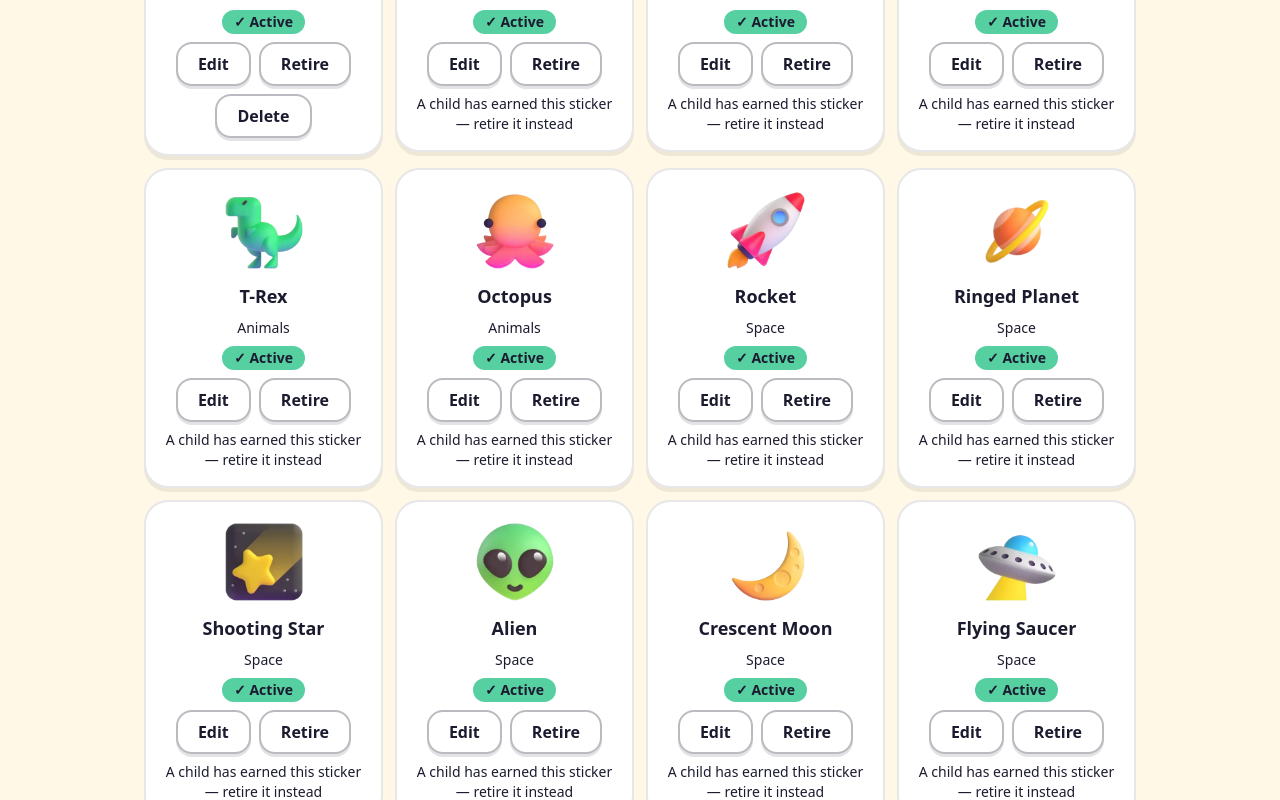
Test: LibraryScreen › edits a sticker name
The width and height of the screenshot is (1280, 800).
(page scrolled)
Expected: the heading "Rocket" is shown, [734, 282, 796, 310]
Click the button with aria-label "Edit Rocket".
click(715, 400)  # box [678, 378, 753, 422]
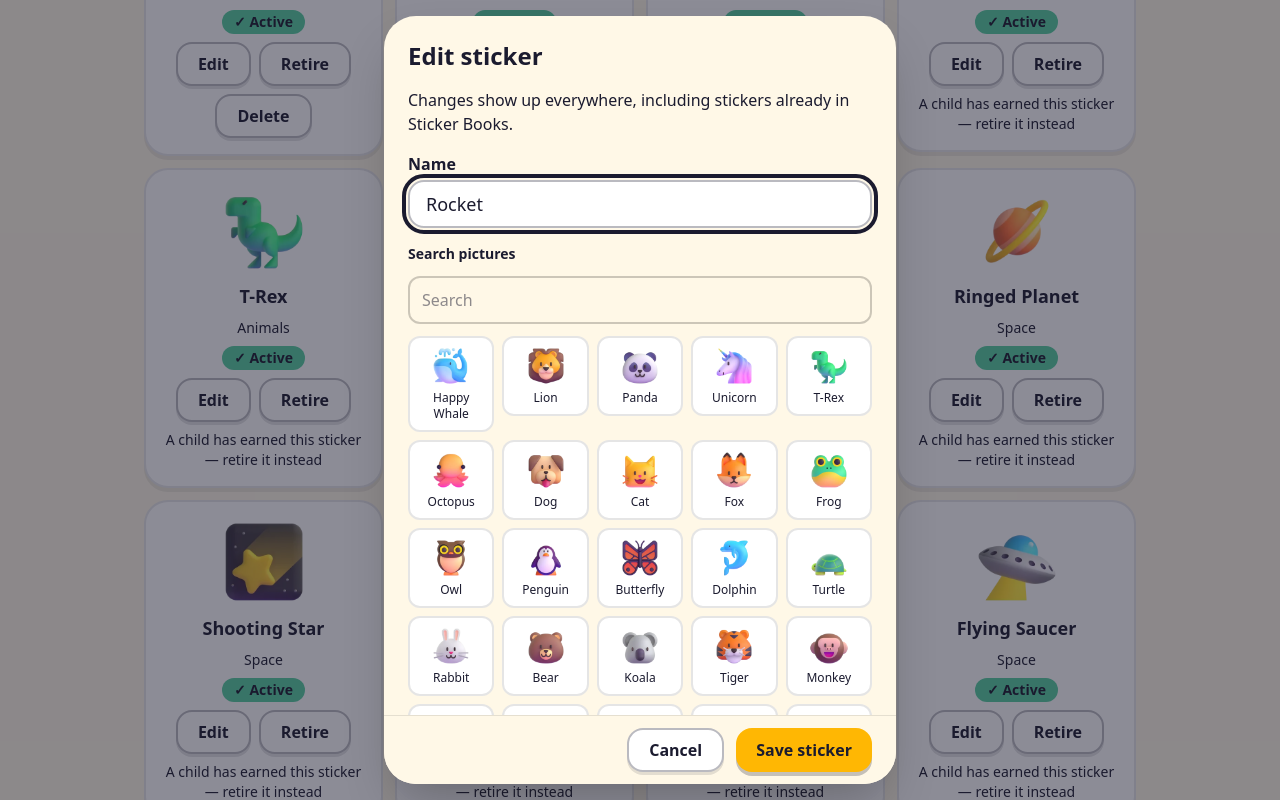
Result: the text "Changes show up everywhere" is shown at [408, 89, 849, 135]
Replace the text in the field labelled "Name" with "Super Rocket" at (640, 204), box [408, 180, 872, 228]
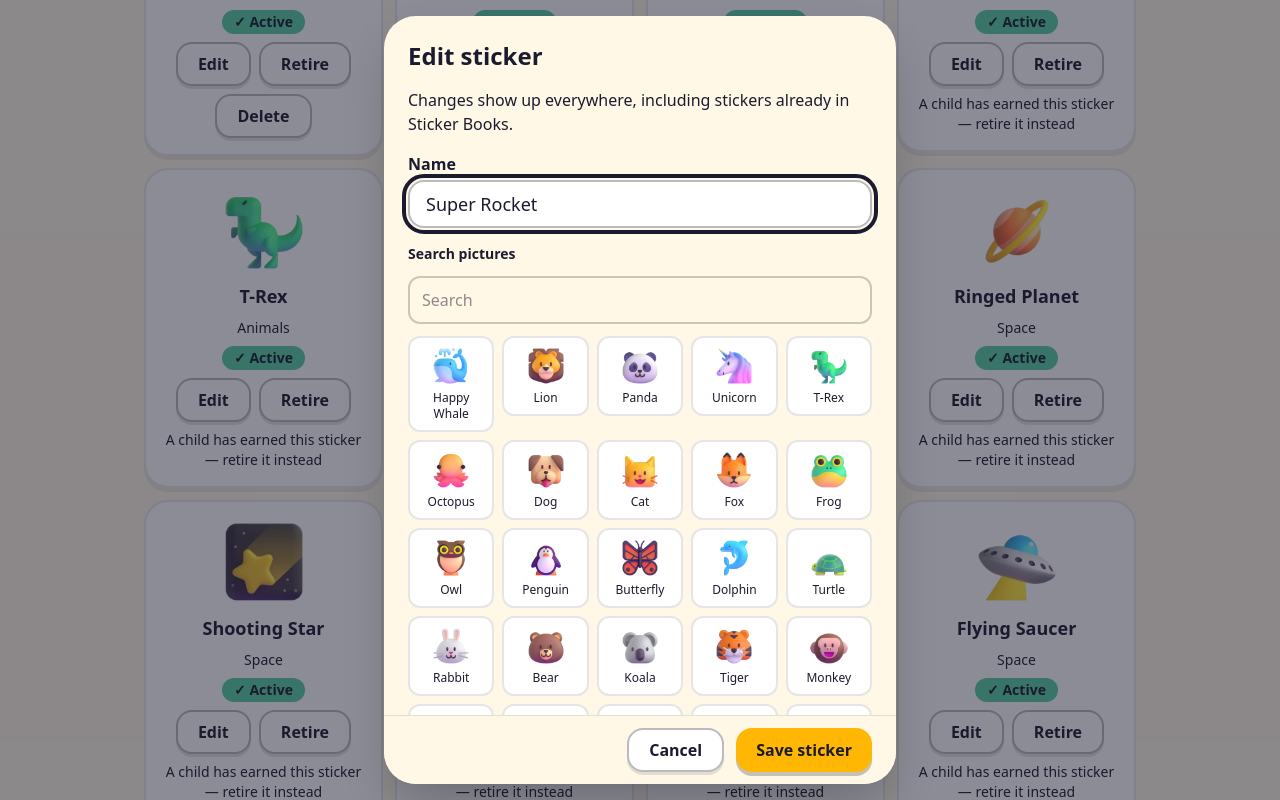
Click the button "Save sticker".
click(804, 750)  # box [736, 728, 872, 772]
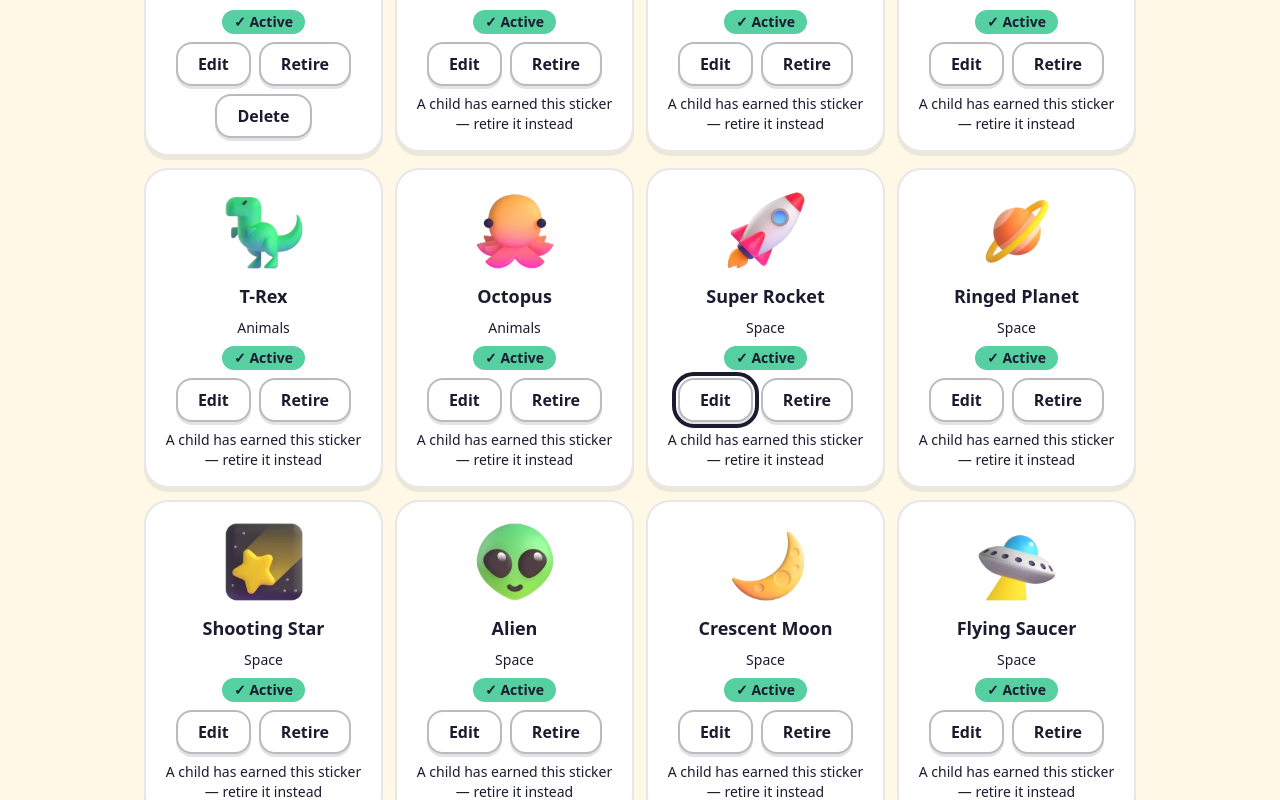
Result: the heading "Super Rocket" is shown at [706, 282, 825, 310]
